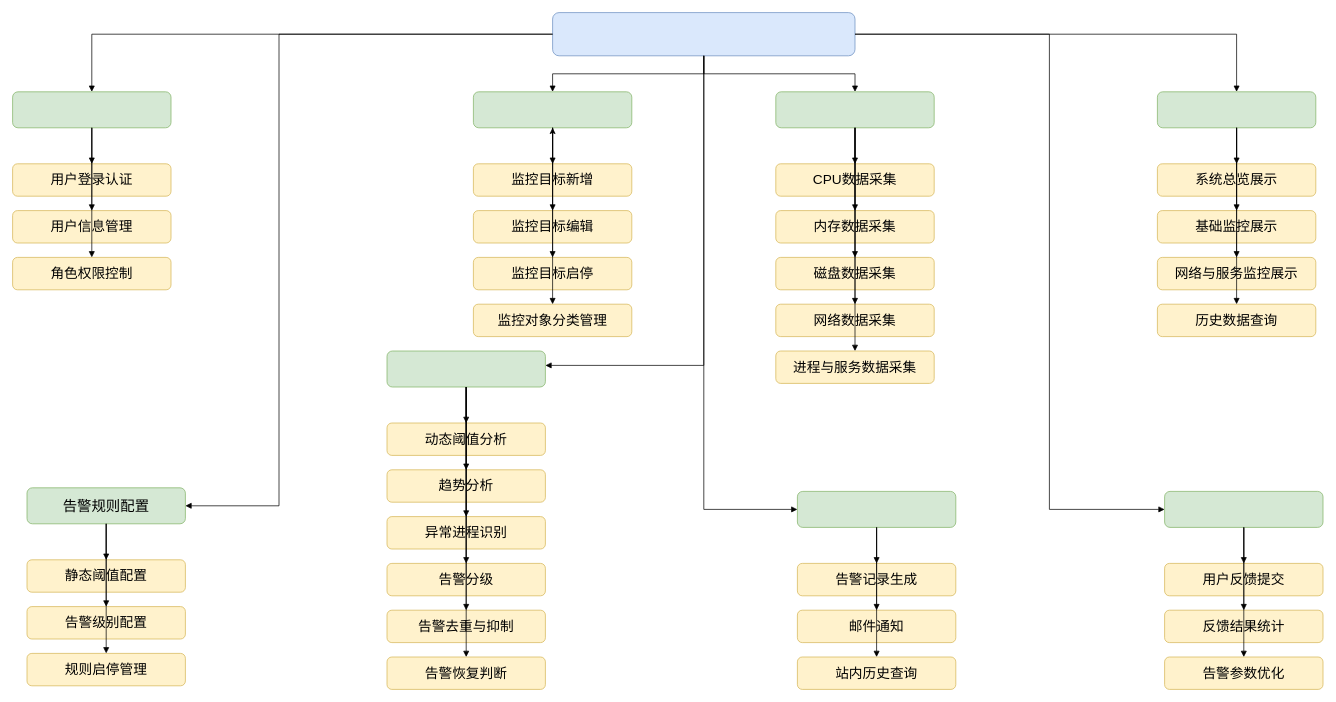
Some shapes in this 1336 by 702 pixel diagram are drawn without their labels. The centre of each missing label's shape, as x and y in pixels:
告警反馈优化: pixel 1243 509
告警通知与历史管理: pixel 876 509
基础监控数据采集: pixel 854 109
智能告警分析: pixel 465 368
用户认证与权限管理: pixel 91 109
监控对象管理: pixel 552 109
监控数据展示与查询: pixel 1236 109
私有云基础监控与智能告警系统功能需求: pixel 703 34
